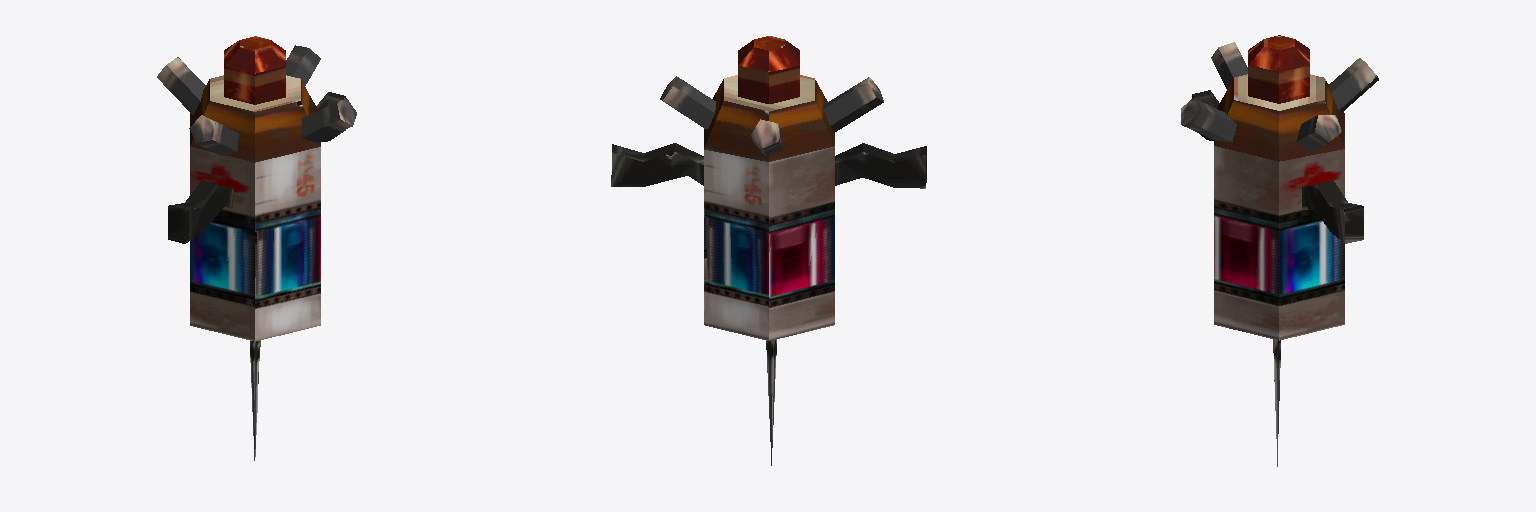
3 renders of one model, left to right at view 1: azimuth 30°, elevation 25°; view 2: azimuth 150°, elevation 25°; view 3: azimuth 270°, elevation 25°, orthographic.
Parts seen in each view (by area): view 1: Cylinder01; view 2: Cylinder01; view 3: Cylinder01.
Part boxes in pixels (left/top/right/bottom): Cylinder01: left=157, top=36, right=356, bottom=460; Cylinder01: left=611, top=36, right=926, bottom=465; Cylinder01: left=1181, top=35, right=1378, bottom=466.
Bounding box in the file's own units: 104 × 172 × 72.72.
1 materials, 1 textured.